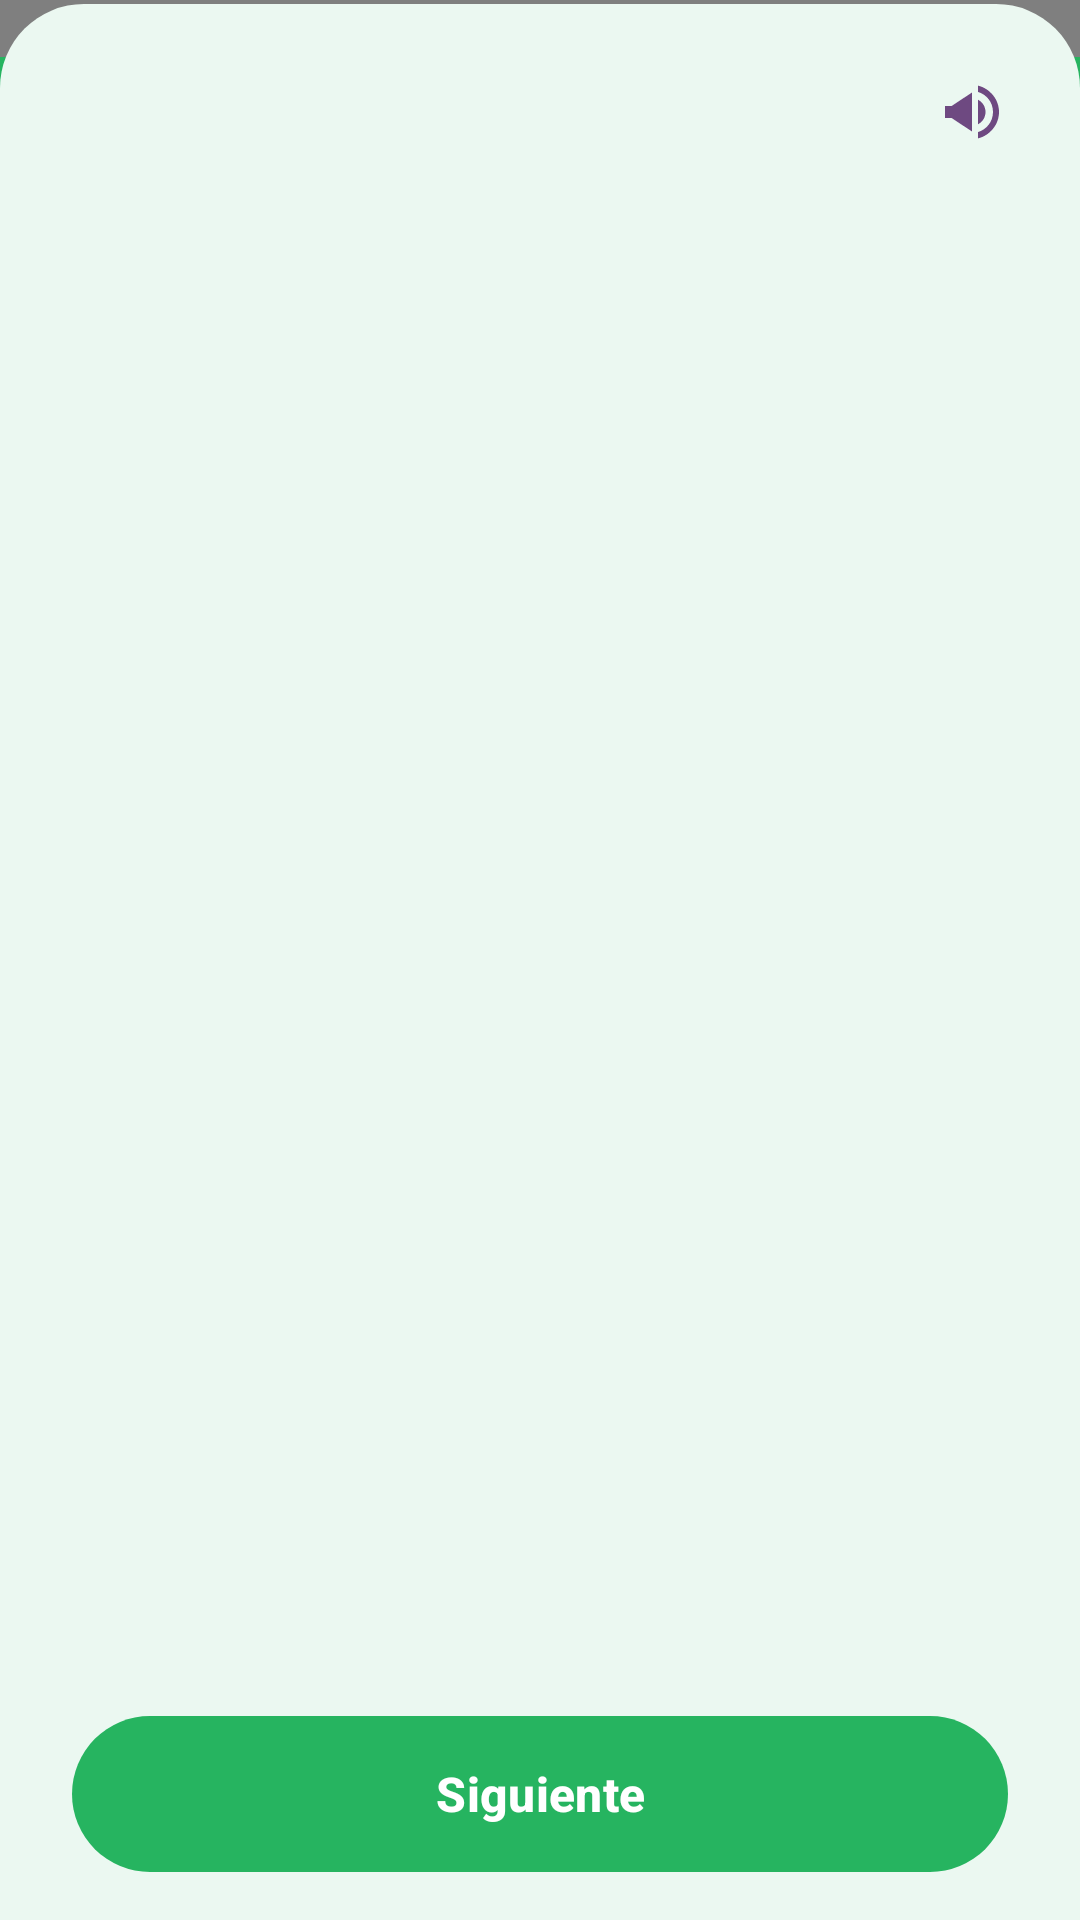

Icon bounding boxes for this 1080px x 1920px phone screenshot, format BBox(x1, y1, x2, y2):
Escuchar la recomendación: BBox(945, 85, 999, 139)
